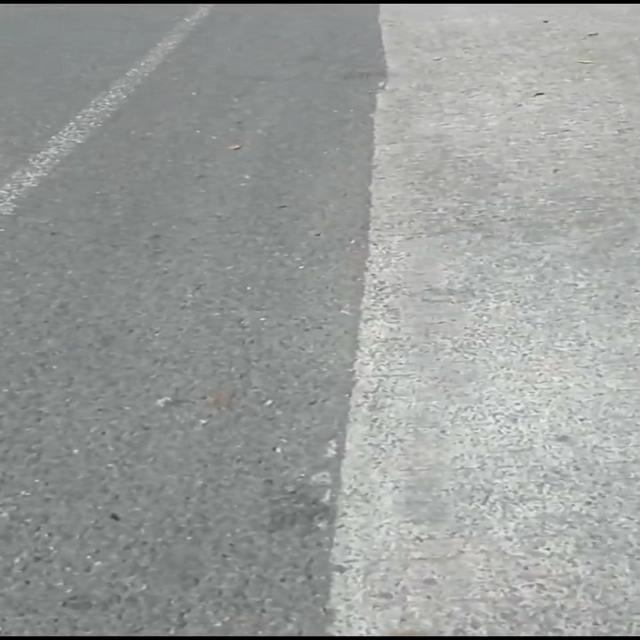Sambungan: (321, 0, 640, 640)
